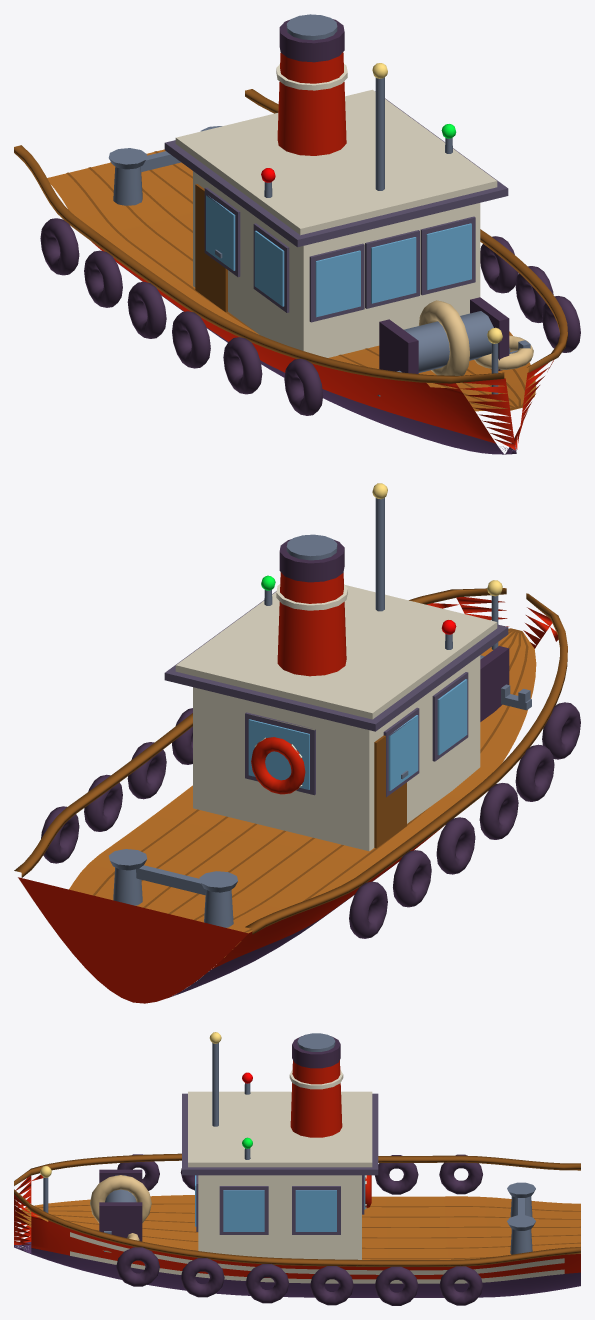
Rendered from bateau-remorqueur.glb.
3 views of the same model, one above another, from view 1: azimuth 30°, elevation 25°; view 2: azimuth 150°, elevation 25°; view 3: azimuth 270°, elevation 25° (orthographic). The views are drawn at different scales.
Visible parts, largest first — view 1: cabine__gris_clair, coque__violet_nuit2, cabine__blanc, pont__orange, cabine__bleu, cabine__violet_fonce, coque__rouge, coque__orange_fonce, cheminee__rouge, pont__bleu_fonce, pont__orange_pale, coque__violet_nuit (+7 smaller); view 2: cabine__blanc, pont__orange, cabine__gris_clair, coque__rouge, coque__violet_nuit2, coque__orange_fonce, cabine__violet_fonce, cheminee__rouge, cabine__bleu, pont__bleu_fonce, pont__orange_fonce, cabine__orange_fonce (+6 smaller); view 3: pont__orange, cabine__gris_clair, coque__violet_nuit2, cabine__blanc, coque__orange_fonce, coque__rouge, coque__violet_nuit, cabine__violet_fonce, cabine__bleu, cheminee__rouge, coque__blanc, pont__orange_fonce (+7 smaller).
Boxes of the visible parts, x1,y1,x2,y2 form: cabine__gris_clair: (175,89,497,235); coque__violet_nuit2: (40,218,580,415); cabine__blanc: (193,171,480,357); pont__orange: (47,149,536,411); cabine__bleu: (206,195,471,317); cabine__violet_fonce: (164,91,508,322); coque__rouge: (91,241,553,450); coque__orange_fonce: (14,89,567,383); cheminee__rouge: (277,52,346,155); pont__bleu_fonce: (108,126,531,396); pont__orange_pale: (418,300,533,375); coque__violet_nuit: (118,263,516,454); cabine__blanc: (193,655,480,851); pont__orange: (69,631,536,957); cabine__gris_clair: (175,585,497,719); coque__rouge: (18,597,558,1003); coque__violet_nuit2: (41,702,580,938); coque__orange_fonce: (14,588,567,934); cabine__violet_fonce: (164,591,508,797); cheminee__rouge: (277,572,346,676); cabine__bleu: (248,679,467,790); pont__bleu_fonce: (108,595,531,927); pont__orange_fonce: (93,628,528,932); cabine__orange_fonce: (374,735,406,848); pont__orange: (17,1195,580,1259); cabine__gris_clair: (188,1091,372,1167); coque__violet_nuit2: (116,1154,482,1305); cabine__blanc: (198,1175,366,1259); coque__orange_fonce: (14,1153,580,1266); coque__rouge: (14,1174,580,1279); coque__violet_nuit: (14,1242,580,1297); cabine__violet_fonce: (182,1093,378,1234); cabine__bleu: (195,1175,365,1231); cheminee__rouge: (290,1060,342,1137); coque__blanc: (70,1232,564,1283); pont__orange_fonce: (15,1203,580,1259).
Size of the model in its own units: 3.23 by 3.3 by 6.58.
